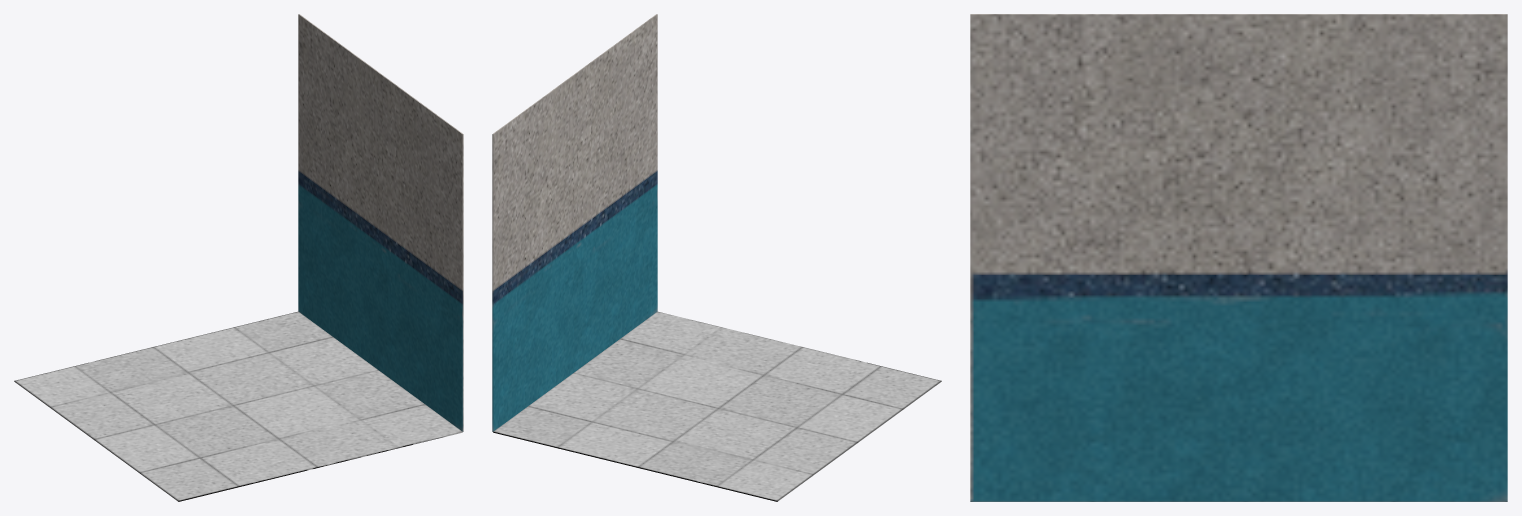
File: floor1.glb
3 renders of one model, left to right at view 1: azimuth 30°, elevation 25°; view 2: azimuth 150°, elevation 25°; view 3: azimuth 270°, elevation 25°, orthographic. The views are drawn at different scales.
Visible parts, largest first — view 1: Wall_Variant_1.004; view 2: Wall_Variant_1.004; view 3: Wall_Variant_1.004.
Part boxes in pixels (bbox=[...]): Wall_Variant_1.004: bbox=[14, 14, 463, 501]; Wall_Variant_1.004: bbox=[492, 14, 941, 501]; Wall_Variant_1.004: bbox=[970, 14, 1507, 501].
Size of the model in its own units: 4.01 by 4.01 by 4.
2 materials, 2 textured.
